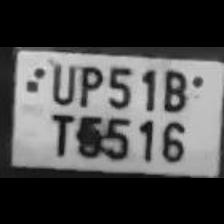1: (134, 64, 158, 112), (133, 115, 157, 161)
5: (102, 60, 134, 108), (99, 112, 131, 160)
6: (155, 117, 187, 163)
B: (157, 65, 189, 111)
P: (74, 59, 104, 107)
T: (42, 108, 75, 156)
U: (47, 59, 75, 103)
